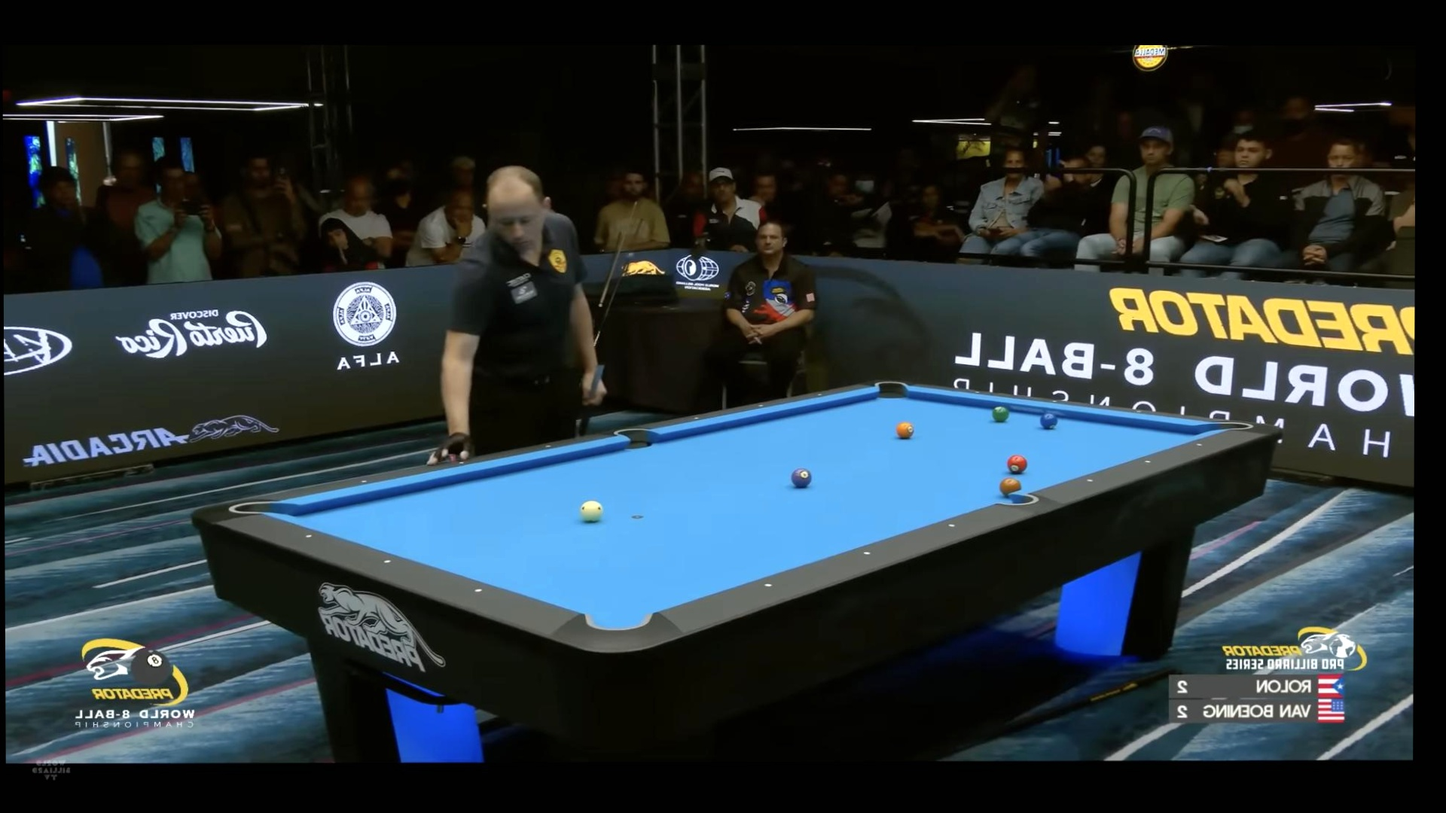Black: (762, 580, 775, 591), (861, 547, 874, 558), (946, 520, 959, 531), (1143, 458, 1154, 467), (1194, 440, 1205, 449), (474, 586, 484, 595), (383, 557, 393, 566), (359, 476, 369, 485), (456, 457, 466, 466), (543, 443, 553, 452), (1084, 476, 1094, 485), (304, 532, 313, 541), (1050, 397, 1058, 405), (973, 388, 981, 396), (1135, 408, 1143, 415), (693, 415, 699, 421), (758, 402, 764, 408), (817, 392, 823, 397)
Cue: (791, 468, 812, 488), (999, 477, 1021, 496), (1007, 454, 1028, 473), (896, 422, 914, 438), (1040, 413, 1058, 429), (992, 406, 1009, 422)
Stripe: (580, 500, 603, 523)
